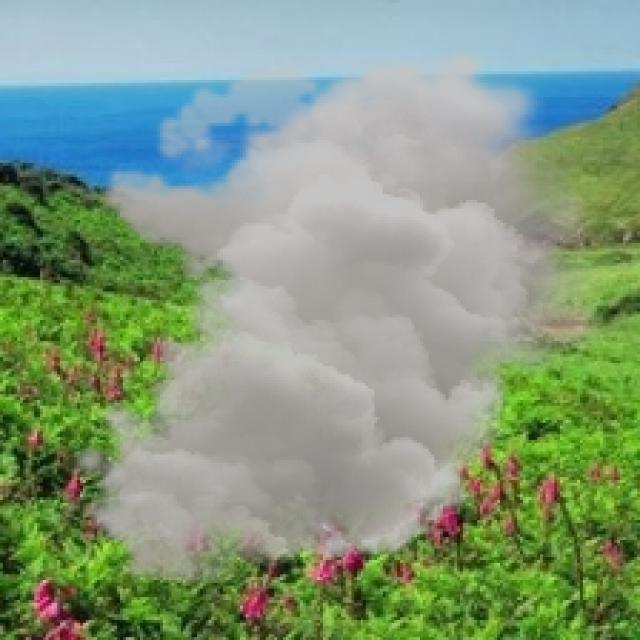smoke: (66, 46, 611, 588)
